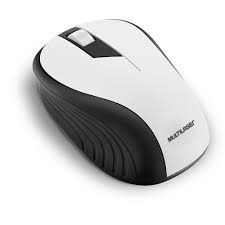mouse: (22, 18, 218, 187)
